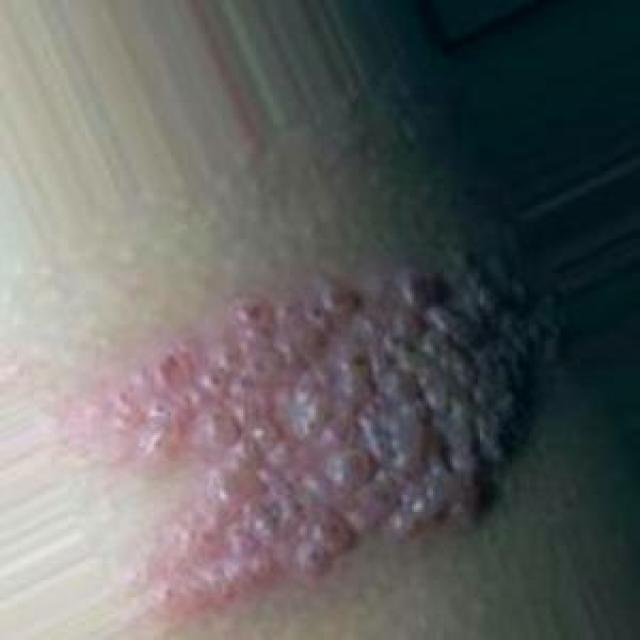Shingles: (115, 249, 559, 622)
